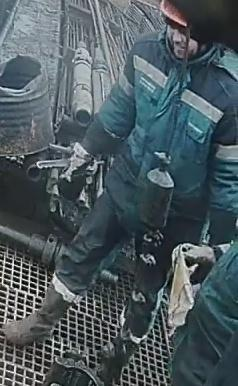gloves: (66, 134, 104, 182), (172, 243, 226, 276)
helmet: (160, 0, 197, 37)
vest: (120, 36, 237, 214)
